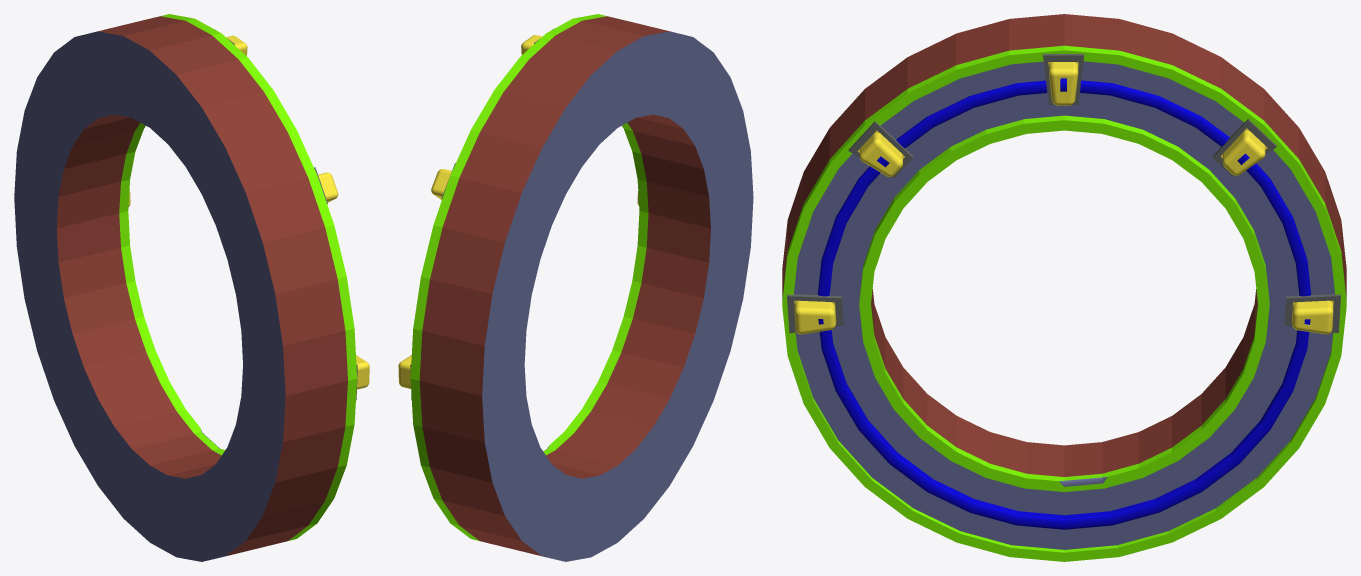
File: Portal.fbx
3 views of the same model, side by side, from view 1: azimuth 30°, elevation 25°; view 2: azimuth 150°, elevation 25°; view 3: azimuth 270°, elevation 25° (orthographic). The views are drawn at different scales.
Visible parts, largest first — view 1: Circle, Plane.002; view 2: Circle, Plane.002; view 3: Circle, Plane.002.
Part boxes in pixels (left/top/right/bottom): Circle: left=14, top=14, right=357, bottom=561; Plane.002: left=128, top=29, right=369, bottom=400; Circle: left=410, top=14, right=753, bottom=561; Plane.002: left=398, top=29, right=638, bottom=399; Circle: left=782, top=14, right=1346, bottom=561; Plane.002: left=787, top=54, right=1340, bottom=334.
Bounding box in the file's own units: 114 × 583 × 583.
